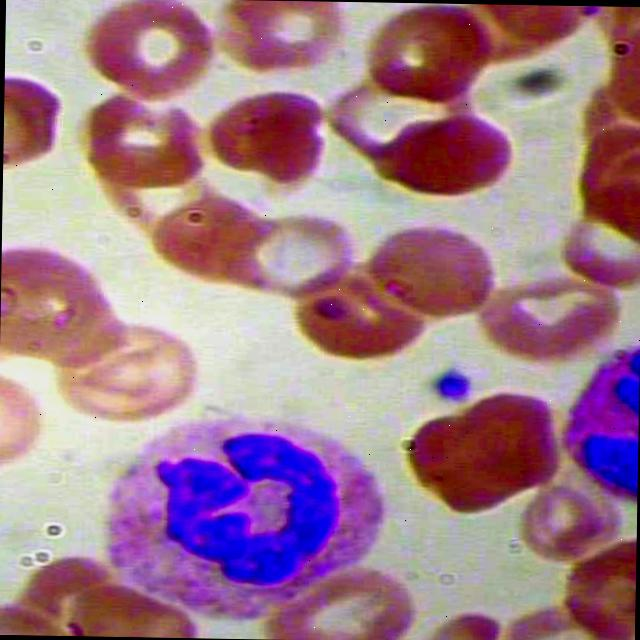Platelets: (424, 364, 476, 408)
RBC: (396, 388, 567, 519), (46, 316, 206, 436), (474, 268, 624, 378), (76, 0, 224, 108), (288, 252, 432, 360), (75, 90, 211, 196), (369, 1, 501, 105), (262, 554, 421, 640), (202, 82, 334, 180), (369, 220, 494, 318), (385, 109, 515, 202), (220, 0, 357, 82), (519, 474, 618, 558), (2, 70, 68, 174)
WBC: (90, 403, 388, 640)
